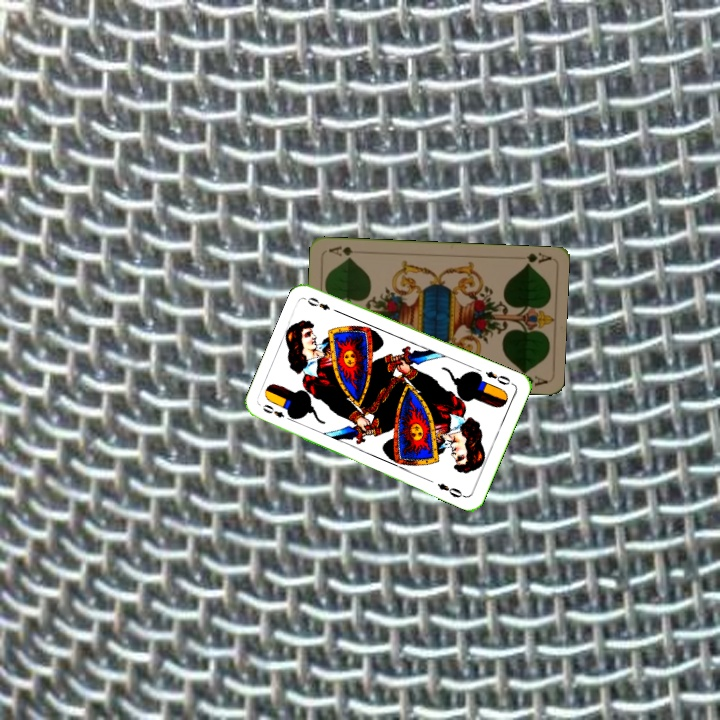EO: (258, 400, 296, 424), (481, 367, 516, 388)
GA: (521, 249, 553, 268)
